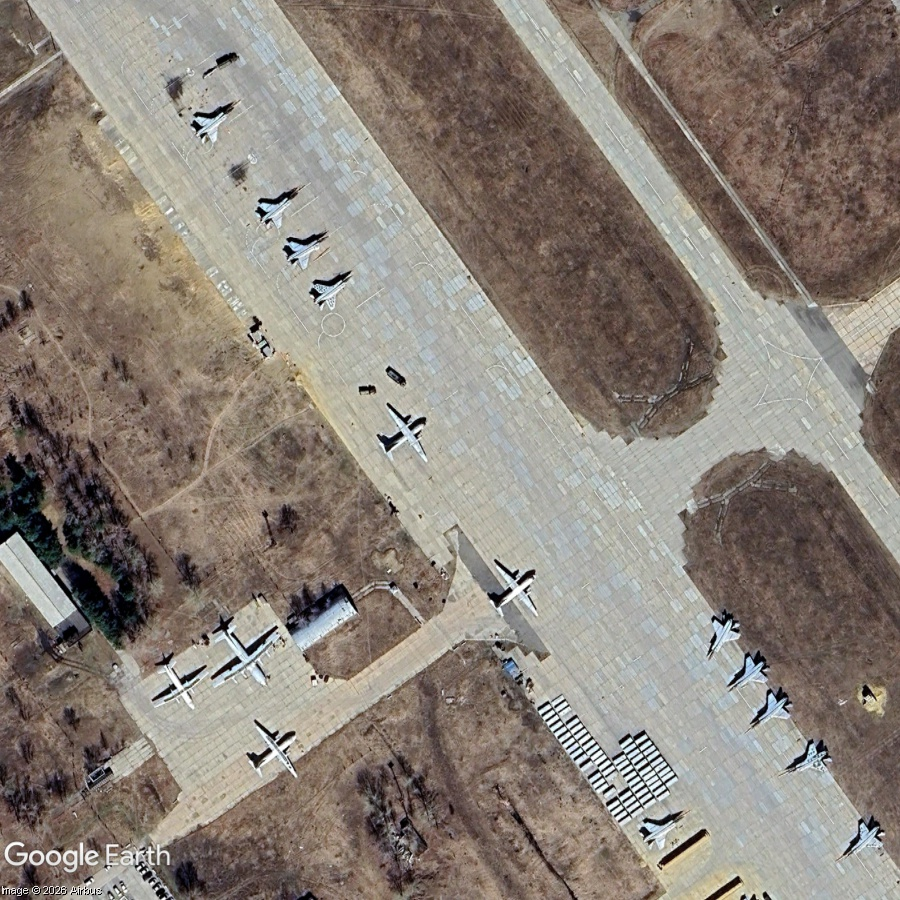Máy bay chiến đấu: (825, 810, 896, 878), (246, 173, 316, 240), (181, 88, 252, 154), (769, 732, 841, 795), (629, 796, 699, 860), (301, 258, 366, 320), (737, 682, 802, 744), (274, 218, 341, 278), (715, 647, 779, 707), (691, 607, 749, 670)
Máy bay vận tải/Tiếp dầu: (184, 596, 305, 715), (228, 704, 322, 800), (360, 388, 450, 483), (470, 545, 560, 637), (135, 644, 224, 730)
